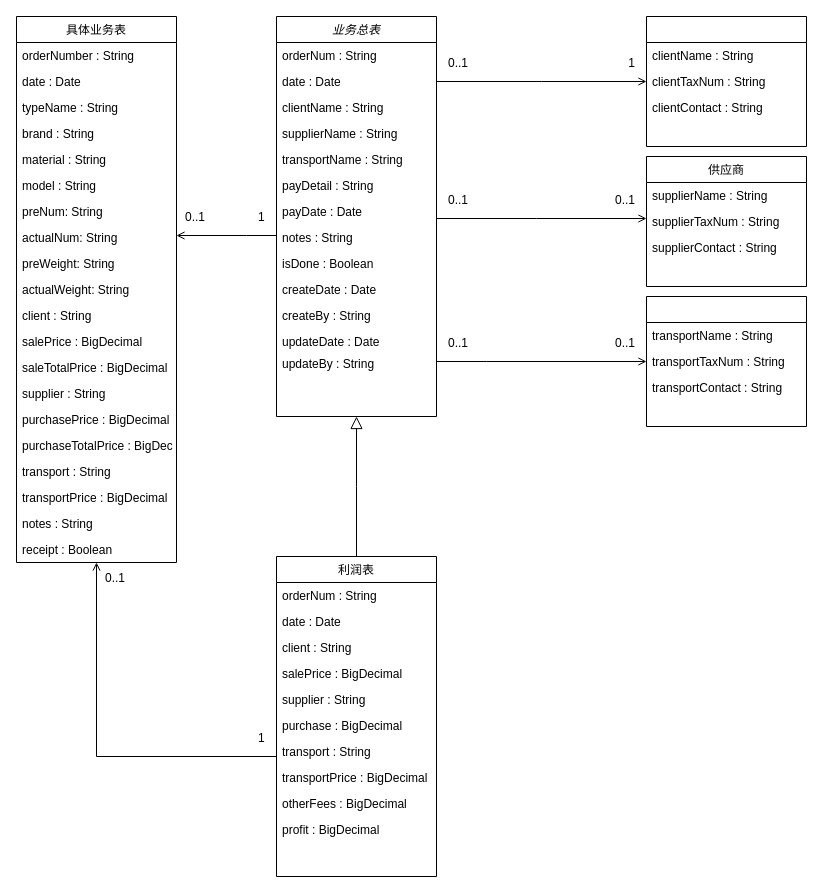
Image size: 823x893. Some labels were removed from this diagram. Here are the shapes that lost their labels. From the top down, the box of each, then its label:
(646, 16, 806, 146): 客户
(646, 296, 806, 426): 物流公司
